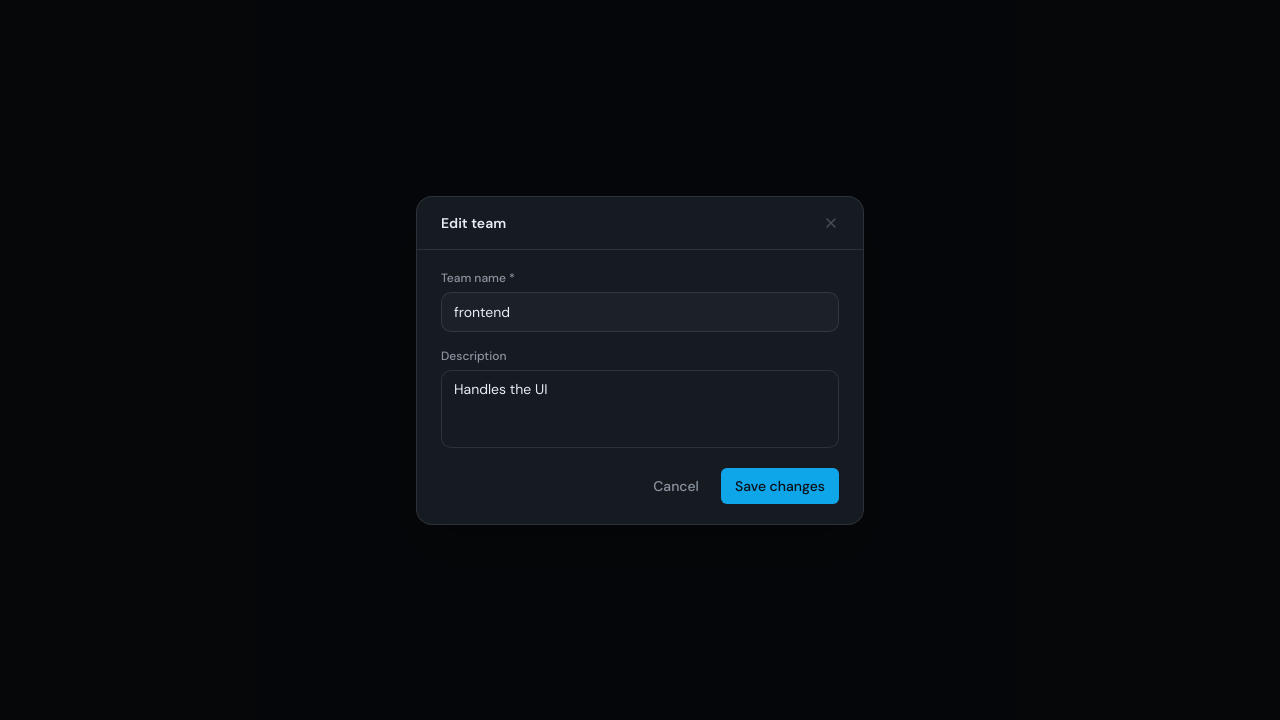
Test: EditTeamModal › submission › shows Saving... label while submitting
This screenshot has width=1280, height=720.
What coordinates should you click on to do the following:
click the button "Save changes"
I would click on:
 (780, 486)
Its box is [721,468,839,504].
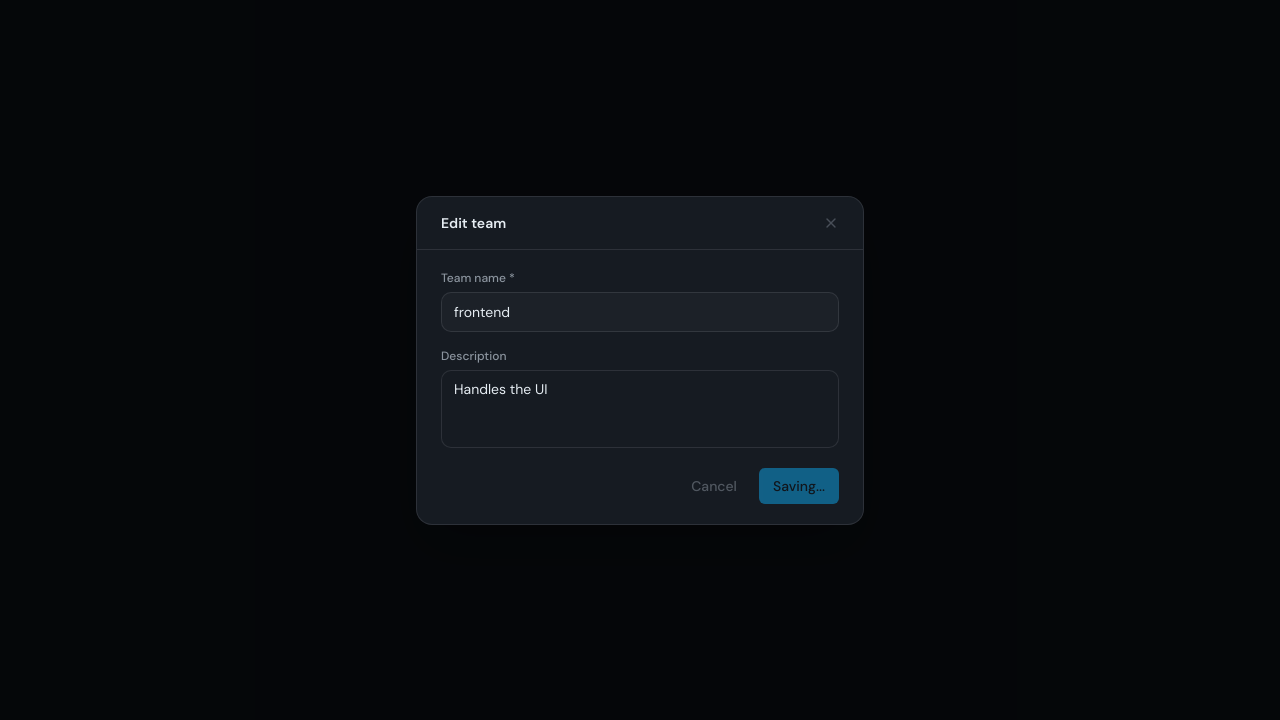
Expected: the button "Saving..." is shown, [759,468,839,504]
